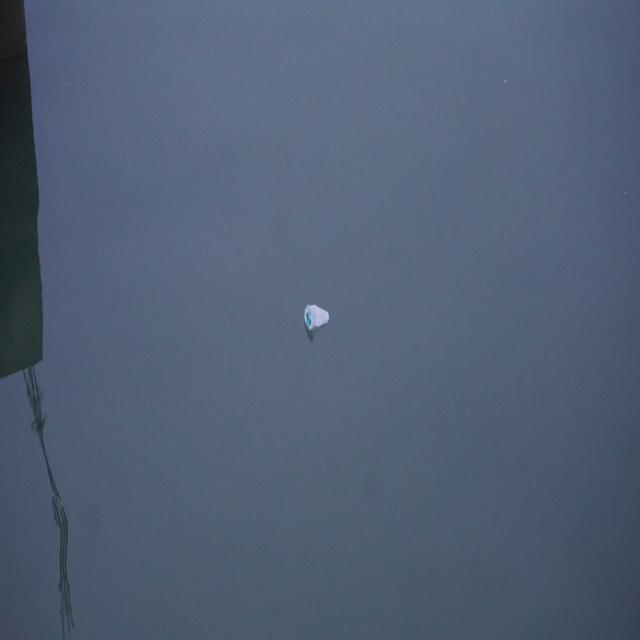Bungkus Minuman: (303, 293, 337, 339)
